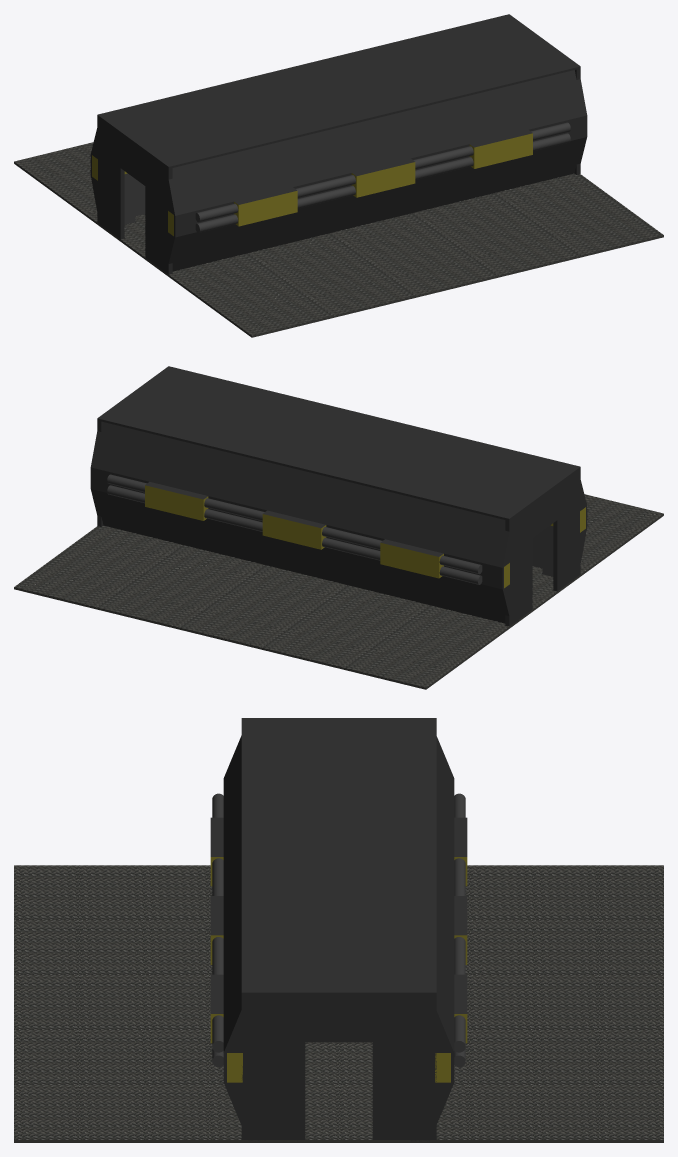
File: NewStraight1.fbx
The picture shows the model from 3 angles, top to bottom: view 1: azimuth 30°, elevation 25°; view 2: azimuth 150°, elevation 25°; view 3: azimuth 270°, elevation 25°; orthographic projection. The views are drawn at different scales.
Visible parts, largest first — view 1: Cube.002, Cube, Cube.004, Cube.005, Cylinder.001, Cylinder, Cube.003; view 2: Cube.003, Cube, Cube.004, Cube.005, Cylinder.003, Cylinder.002, Cube.002; view 3: Cube, Cube.004, Cube.001, Cube.002, Cube.003, Cylinder.001, Cylinder.003.
Part boxes in pixels (box(x1,y1,x2,y2)): Cube.002: box(159, 70, 587, 272); Cube: box(14, 142, 663, 337); Cube.004: box(97, 14, 580, 168); Cube.005: box(97, 117, 172, 274); Cylinder.001: box(195, 122, 570, 222); Cylinder: box(195, 133, 570, 232); Cube.003: box(90, 118, 145, 228); Cube.003: box(90, 422, 518, 624); Cube: box(14, 494, 663, 689); Cube.004: box(97, 366, 580, 520); Cube.005: box(505, 468, 580, 626); Cylinder.003: box(107, 474, 482, 574); Cylinder.002: box(107, 485, 482, 584); Cube.002: box(532, 470, 587, 581); Cube: box(14, 865, 663, 1142); Cube.004: box(241, 718, 436, 995); Cube.001: box(241, 994, 436, 1140); Cube.002: box(210, 735, 266, 1141); Cube.003: box(411, 736, 467, 1141); Cylinder.001: box(212, 793, 223, 1052); Cylinder.003: box(454, 793, 465, 1052).
Bounding box in the file's own units: 4000 × 1020 × 4000.
